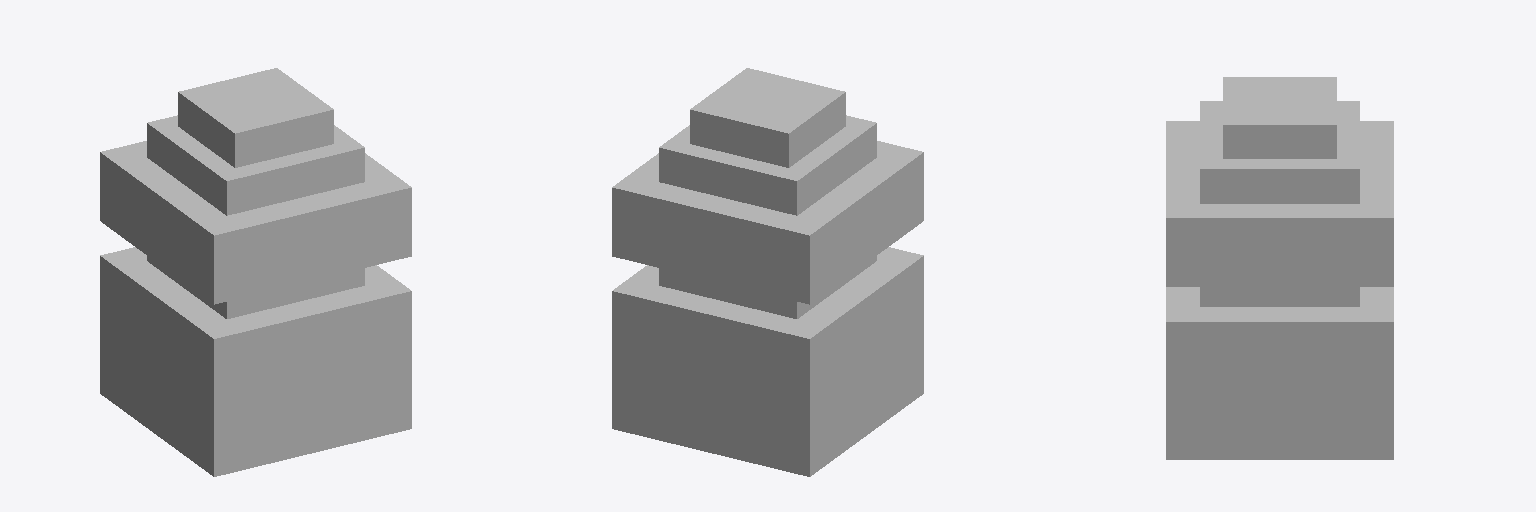
Rendered from connector_mv_cable.obj.
The picture shows the model from 3 angles: view 1: azimuth 30°, elevation 25°; view 2: azimuth 150°, elevation 25°; view 3: azimuth 270°, elevation 25°; orthographic projection.
Parts seen in each view (by area): view 1: connector; view 2: connector; view 3: connector.
Part boxes in pixels (x1,y1,x2,y2): connector: (100, 68, 411, 476); connector: (612, 68, 923, 476); connector: (1166, 77, 1393, 459).
Bounding box in the file's own units: 0.375 × 0.5625 × 0.375.